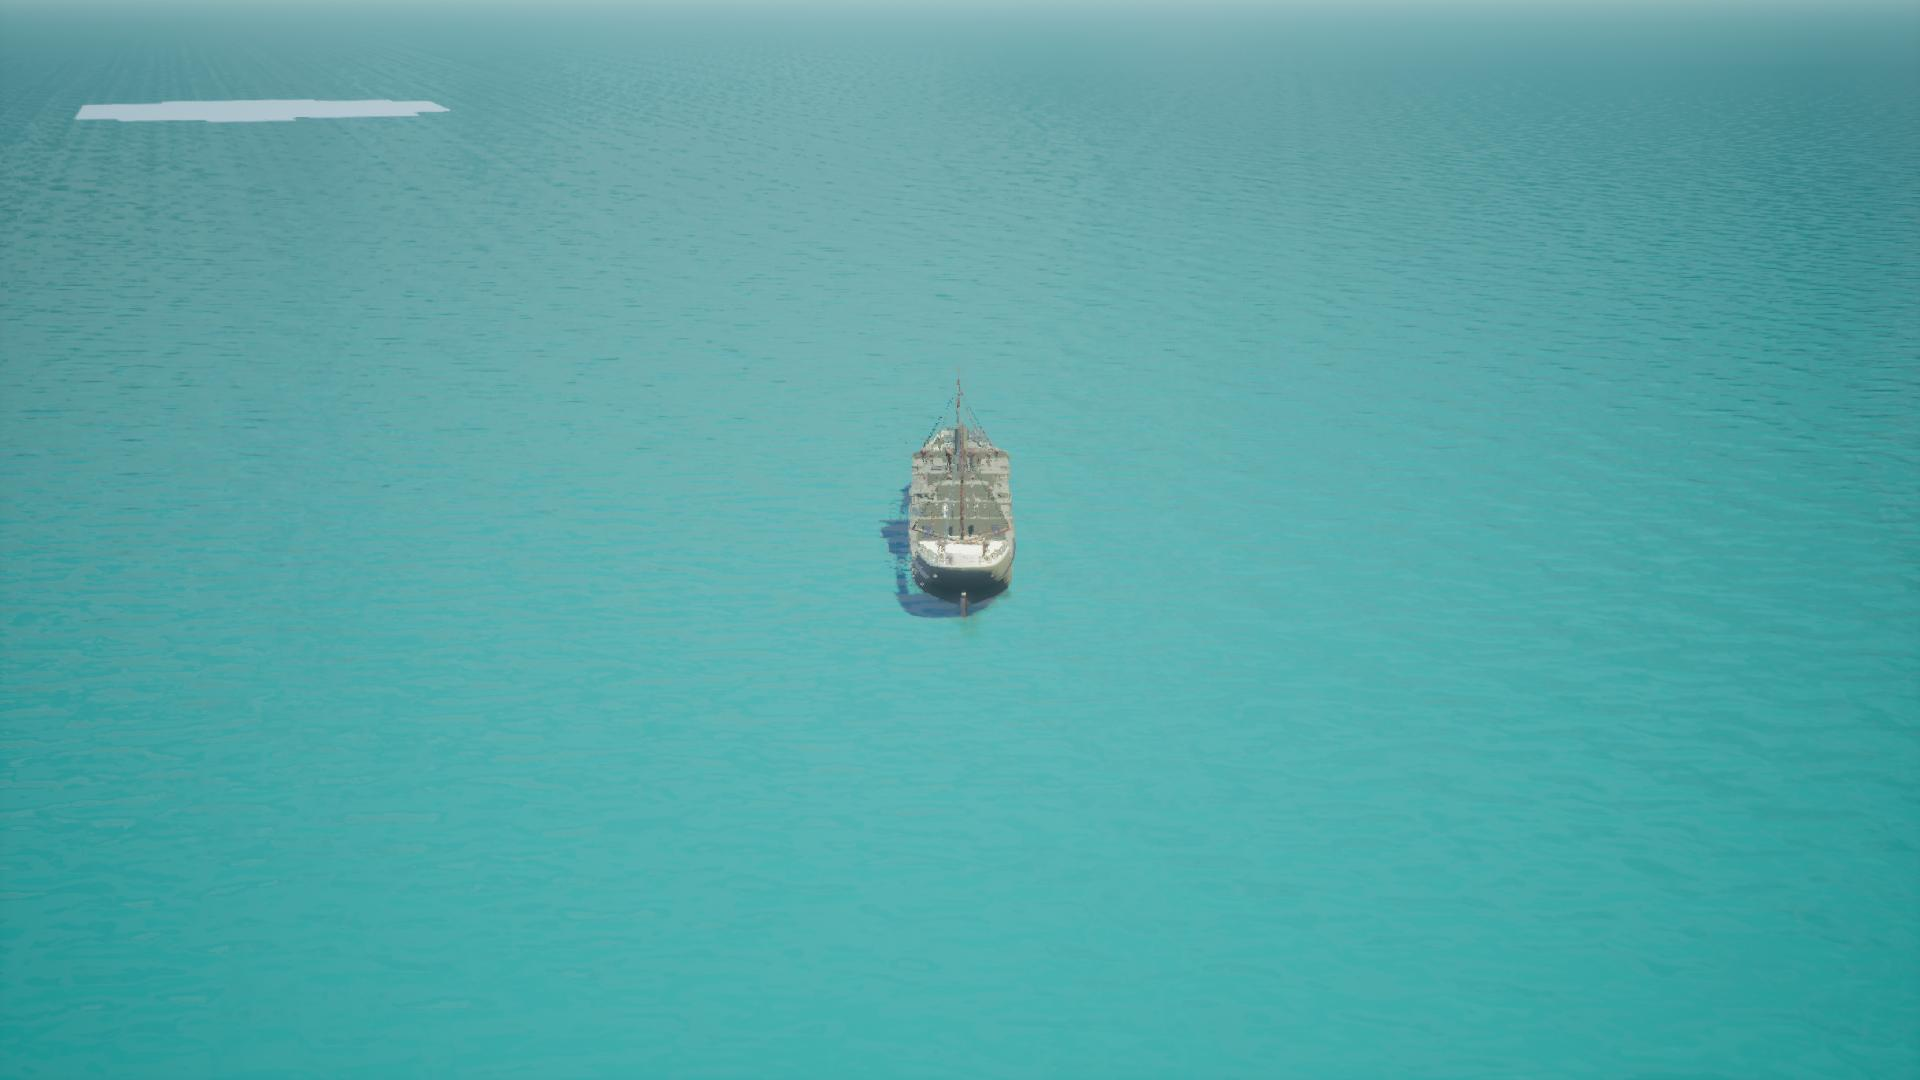Fishing Boat: (894, 377, 1015, 618)
